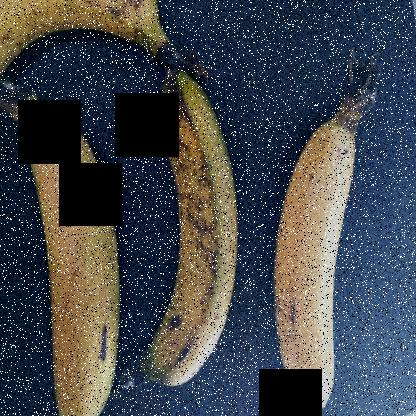freshripe: (252, 117, 356, 415)
ripe: (133, 6, 258, 395)
